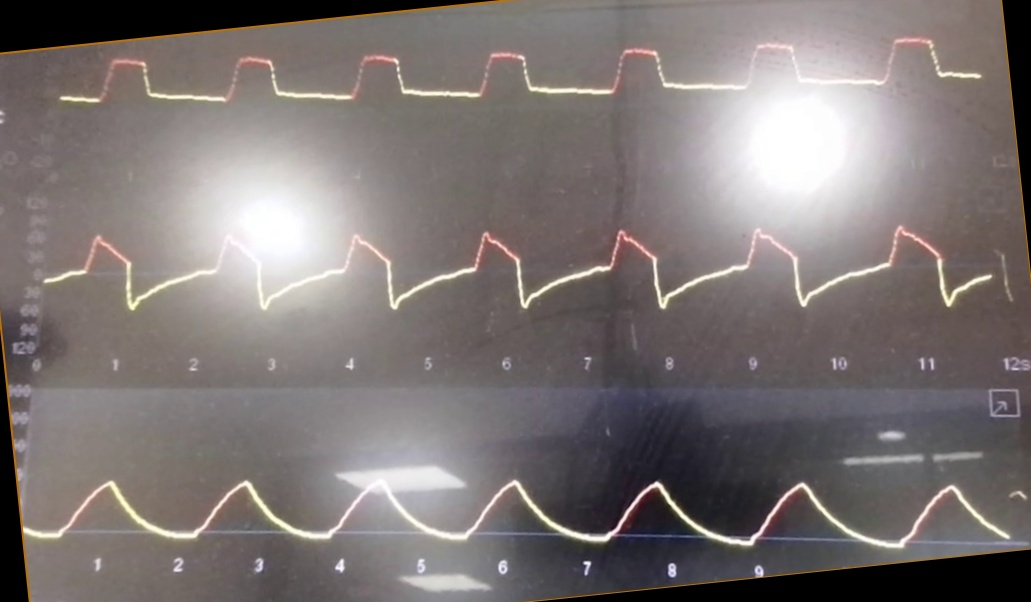Normal Flow: (44, 211, 1016, 339)
Normal Volume: (26, 425, 1005, 553)
